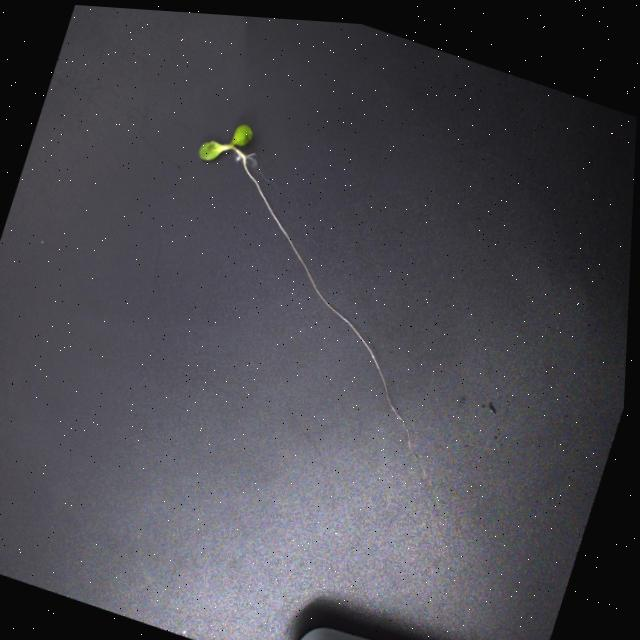leaf: (198, 140, 230, 159), (231, 124, 251, 145)
root: (244, 167, 426, 478)
stem: (230, 145, 246, 167)
